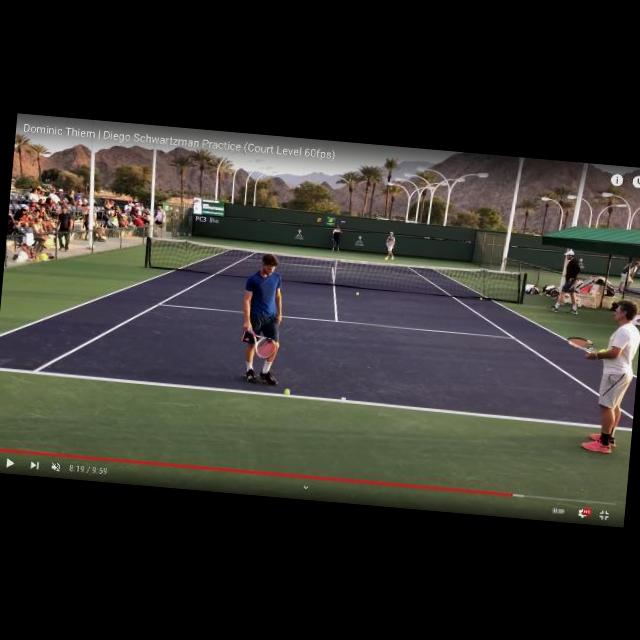Tennis Ball: (283, 387, 290, 394), (356, 292, 358, 295)
